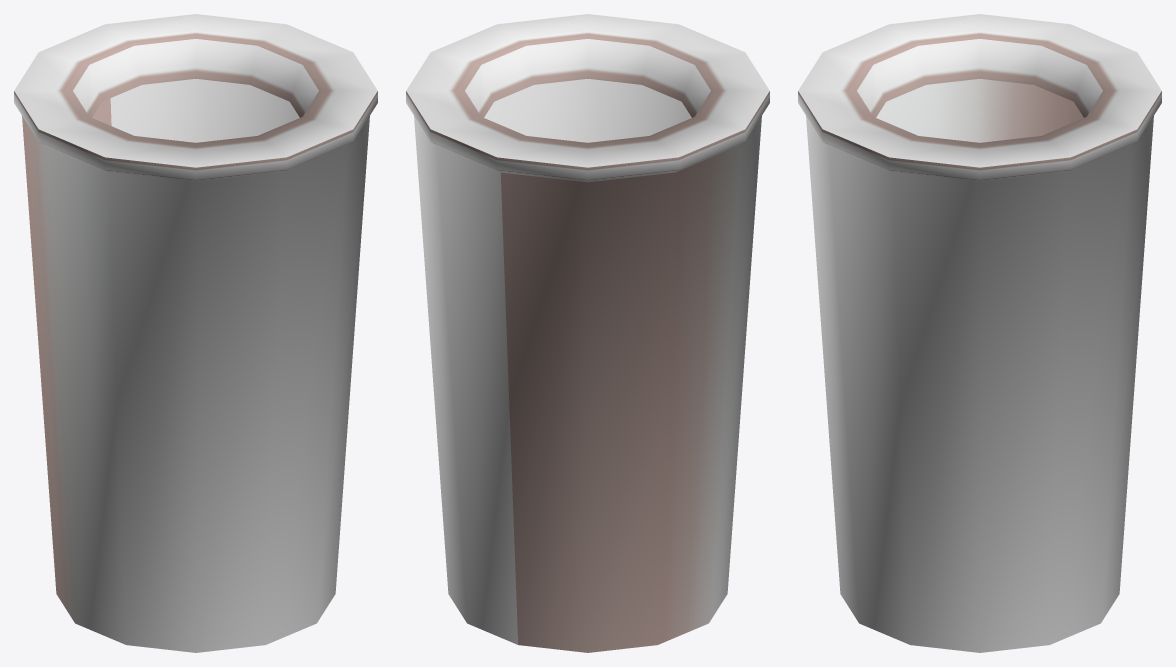
The model's file is trash_world_ap_0_lev1.glb.
3 renders of one model, left to right at view 1: azimuth 30°, elevation 25°; view 2: azimuth 150°, elevation 25°; view 3: azimuth 270°, elevation 25°, orthographic.
Visible parts, largest first — view 1: trash_world_ap_0_lev1; view 2: trash_world_ap_0_lev1; view 3: trash_world_ap_0_lev1.
Part boxes in pixels (x1=…): trash_world_ap_0_lev1: x1=14, y1=14, x2=377, y2=652; trash_world_ap_0_lev1: x1=406, y1=14, x2=769, y2=652; trash_world_ap_0_lev1: x1=798, y1=14, x2=1161, y2=652.
Size of the model in its own units: 0.2084 by 0.3181 by 0.2084.
1 material, 1 textured.
